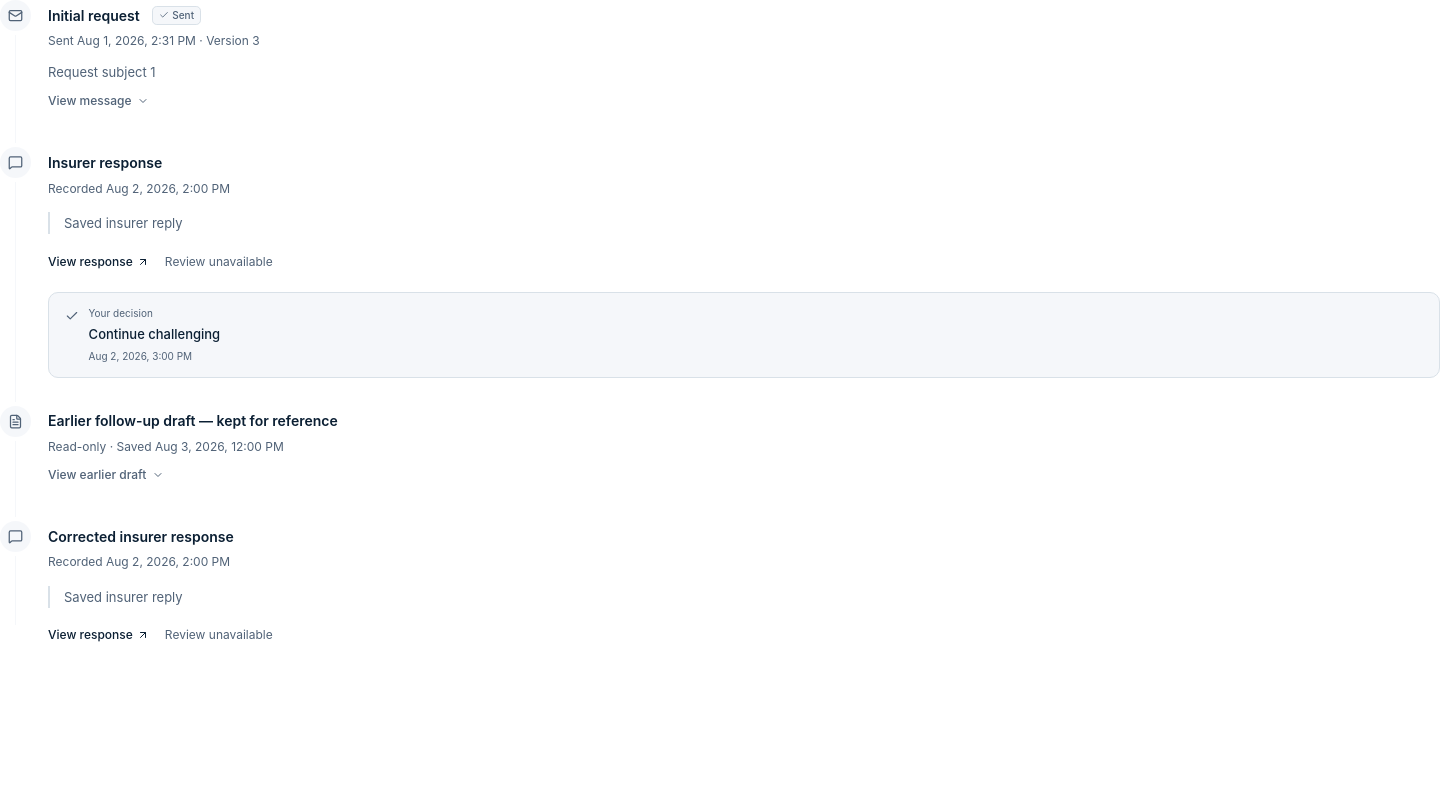
Test case: immutable negotiation history › keeps the last saved draft visible when browser recovery storage cannot be read
Click the 3rd heading.
click(193, 447)  # box [48,412,338,482]
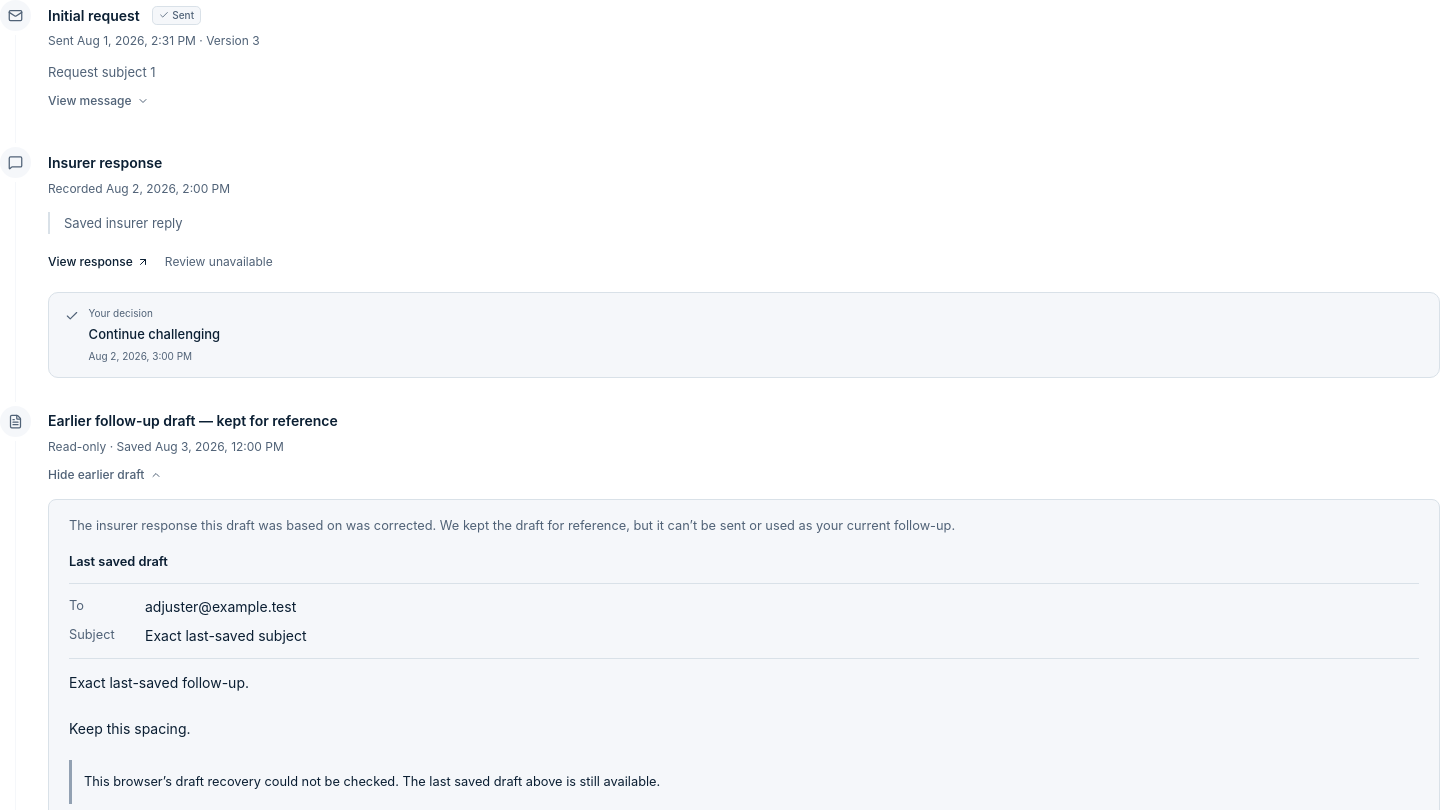
Check: the text "draft recovery could not be checked" is shown, box [84,774,660,790]
Check: the number of elements with class "case-history-draft-version" is 1, box [69,552,1419,744]
